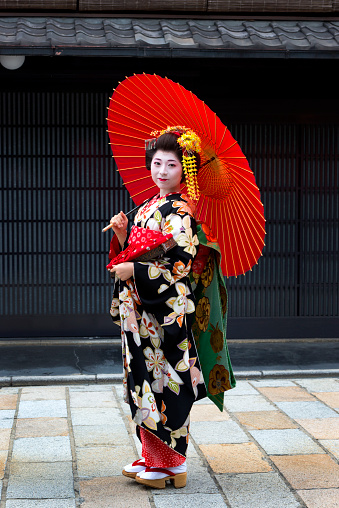em pe: (93, 123, 217, 479)
